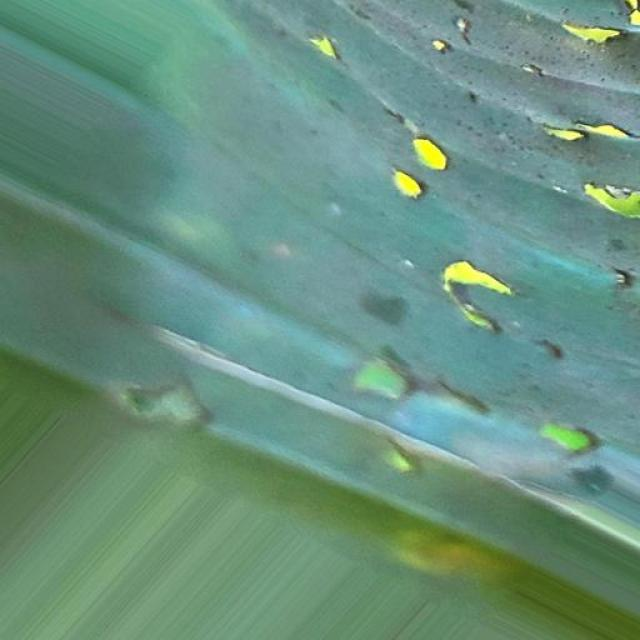Black_rot: (110, 0, 640, 560)
